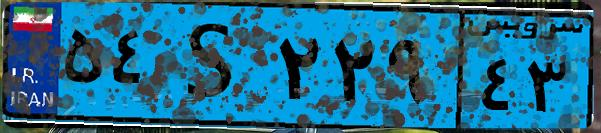2: (270, 28, 330, 110), (330, 28, 385, 110)
3: (525, 38, 570, 115)
4: (475, 38, 525, 113), (110, 28, 158, 98)
5: (57, 26, 110, 100)
9: (385, 28, 445, 110)
S: (158, 12, 270, 120)
